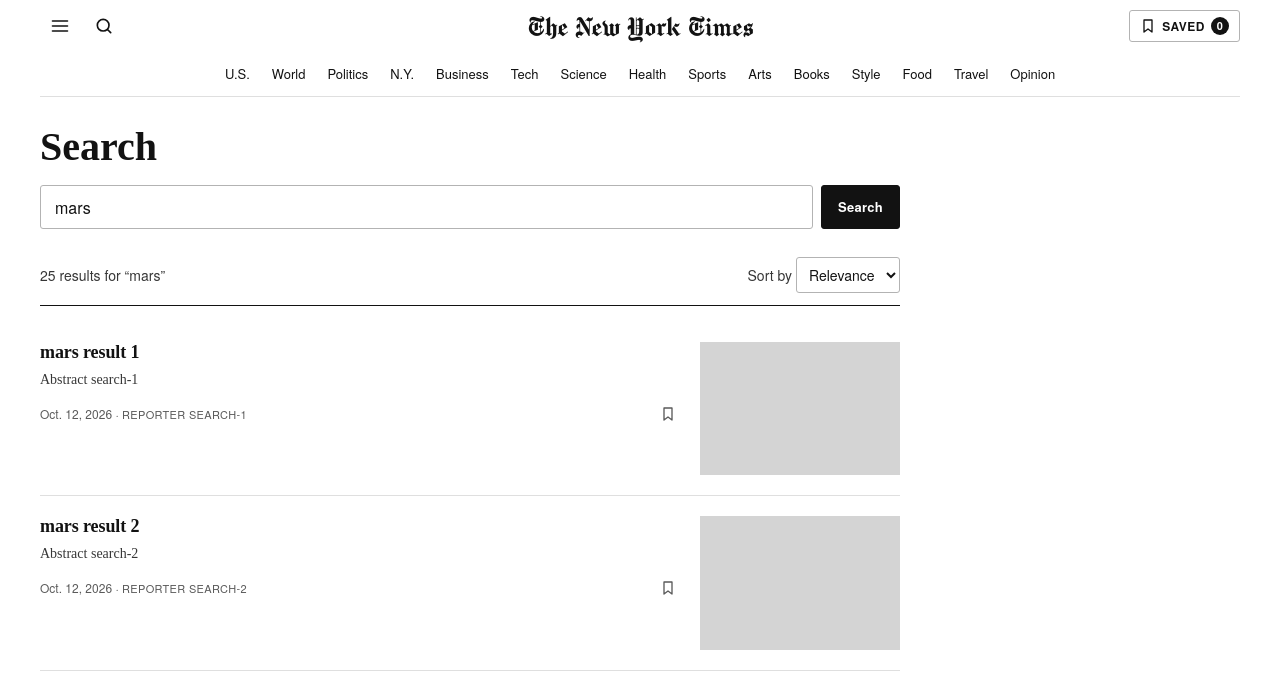
Test: search › updates the search field when a new search starts from the header
Expected: the text "25 results for “mars”" is shown, [40,264,165,286]
Expected: the search field named "Search articles" holds "mars", [40,185,813,229]
Click the button named "Search".
click(104, 26)  # box [84,6,124,46]
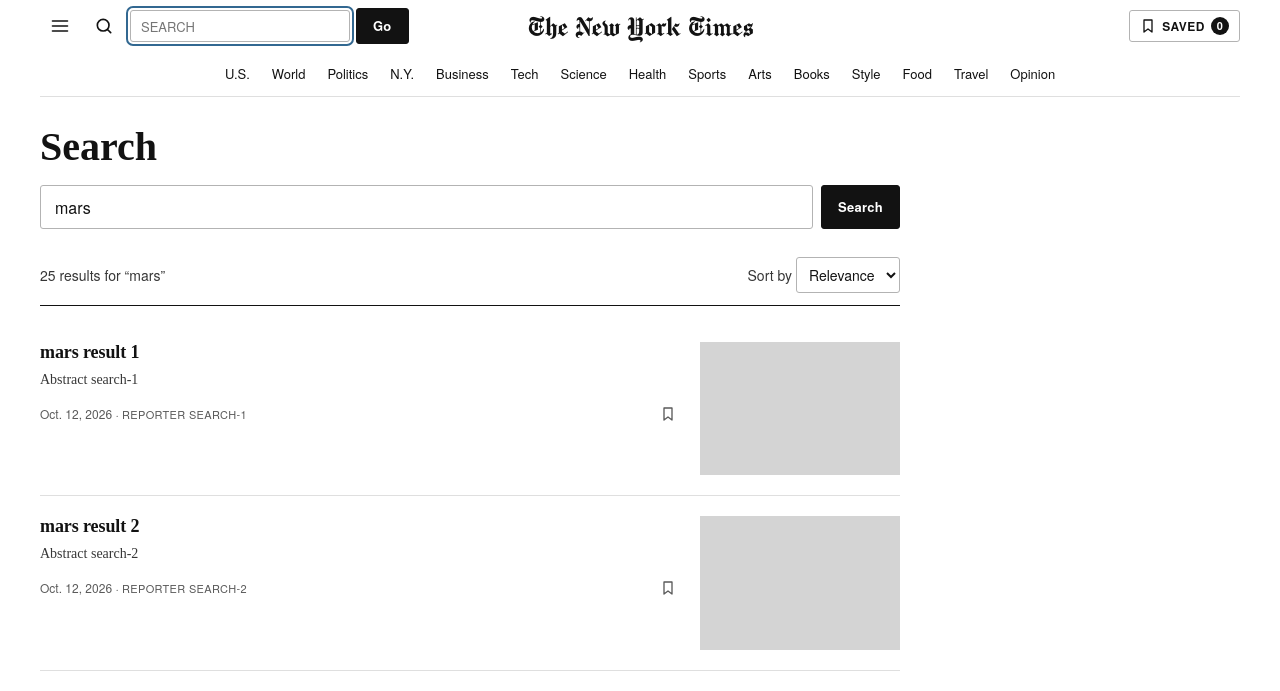
Type "venus" into the search field with placeholder "SEARCH".
click(240, 26); type("venus")  # box [130,10,350,42]
Then press Enter
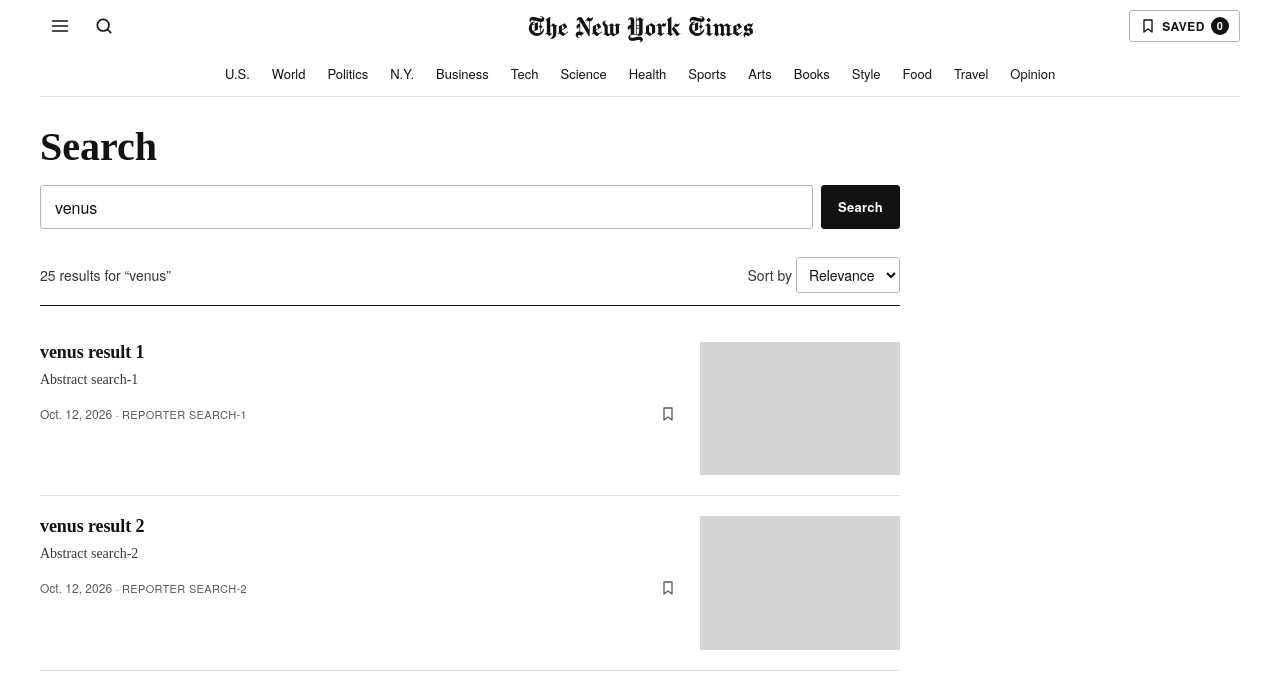
Expected: the text "25 results for “venus”" is shown, [40,264,171,286]
Expected: the search field named "Search articles" holds "venus", [40,185,813,229]
